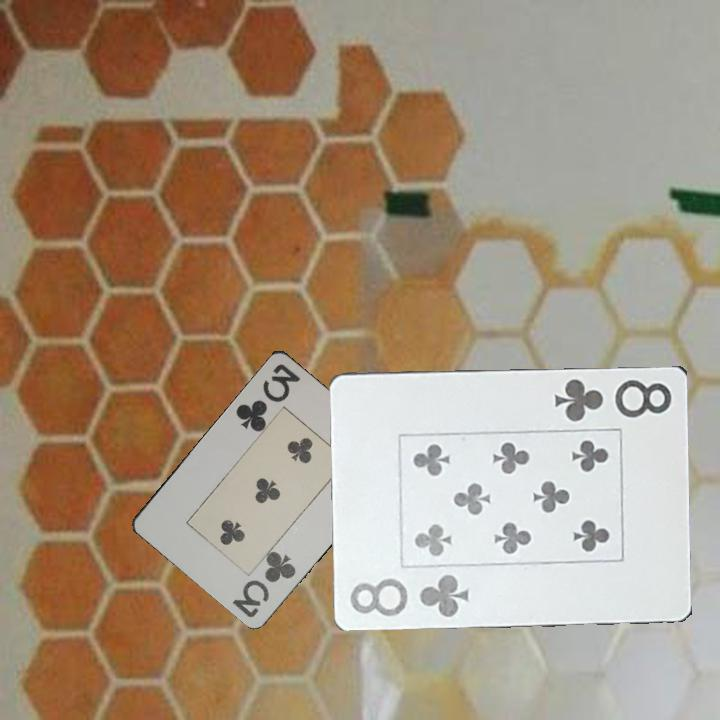3c: (232, 359, 304, 434), (229, 548, 299, 620)
8c: (347, 570, 472, 620), (551, 375, 675, 424)
